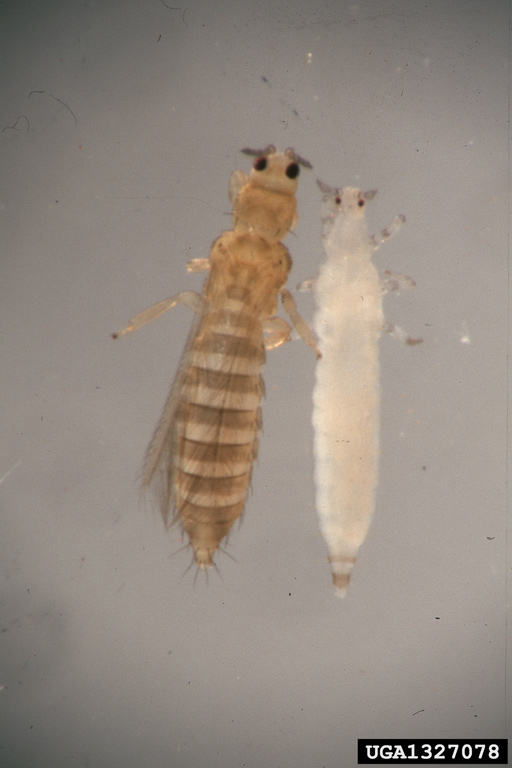Thripidae: (113, 146, 310, 579)
